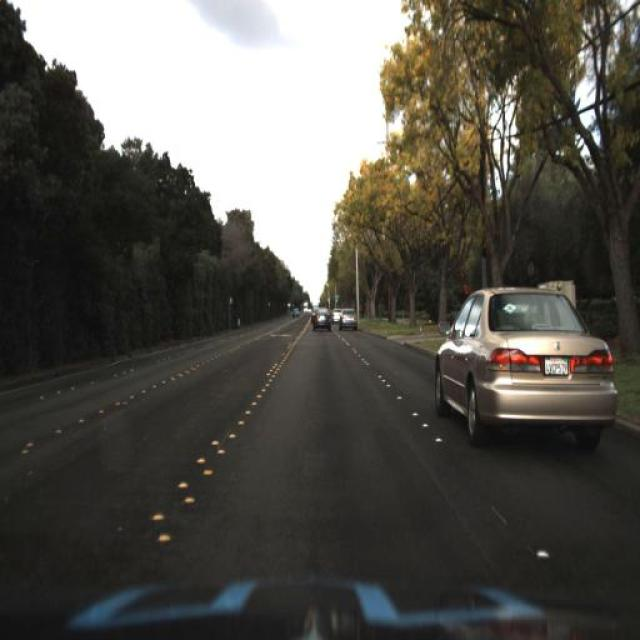car: (426, 275, 622, 467), (432, 280, 618, 459), (306, 298, 336, 334), (337, 295, 363, 335), (329, 304, 343, 328)
